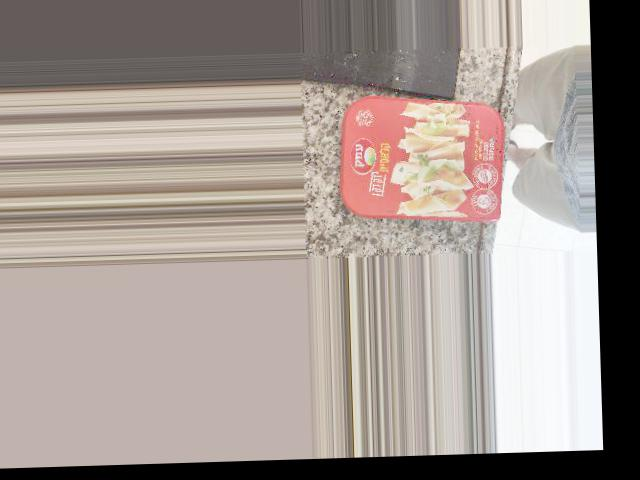cheese: (370, 89, 535, 210)
